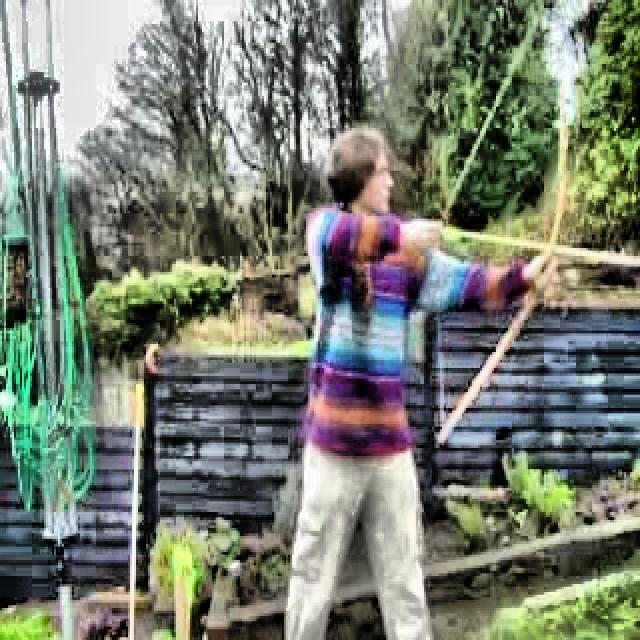I: (295, 101, 570, 640)
